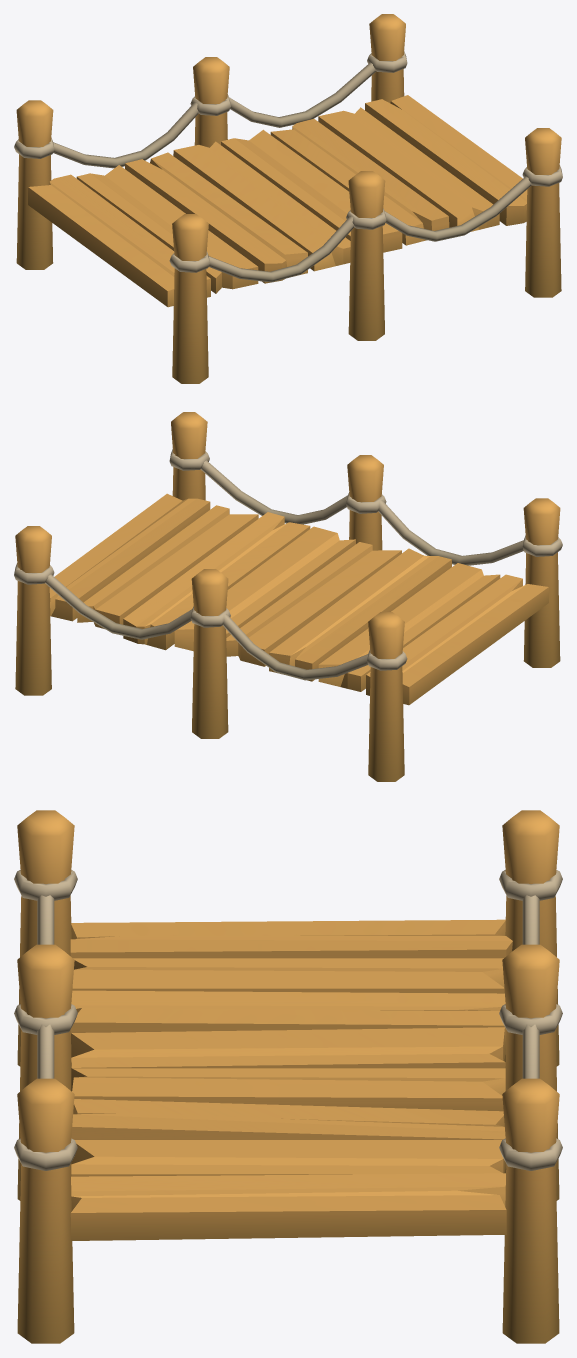
The model's file is Dock+2.fbx.
3 renders of one model, top to bottom at view 1: azimuth 30°, elevation 25°; view 2: azimuth 150°, elevation 25°; view 3: azimuth 270°, elevation 25°, orthographic. The views are drawn at different scales.
Parts seen in each view (by area): view 1: Dock 2; view 2: Dock 2; view 3: Dock 2.
Boxes of the visible parts, x1,y1,x2,y2 form: Dock 2: (14,14,562,383); Dock 2: (14,412,562,781); Dock 2: (14,810,562,1343).
Size of the model in its own units: 204 by 79.99 by 161.
